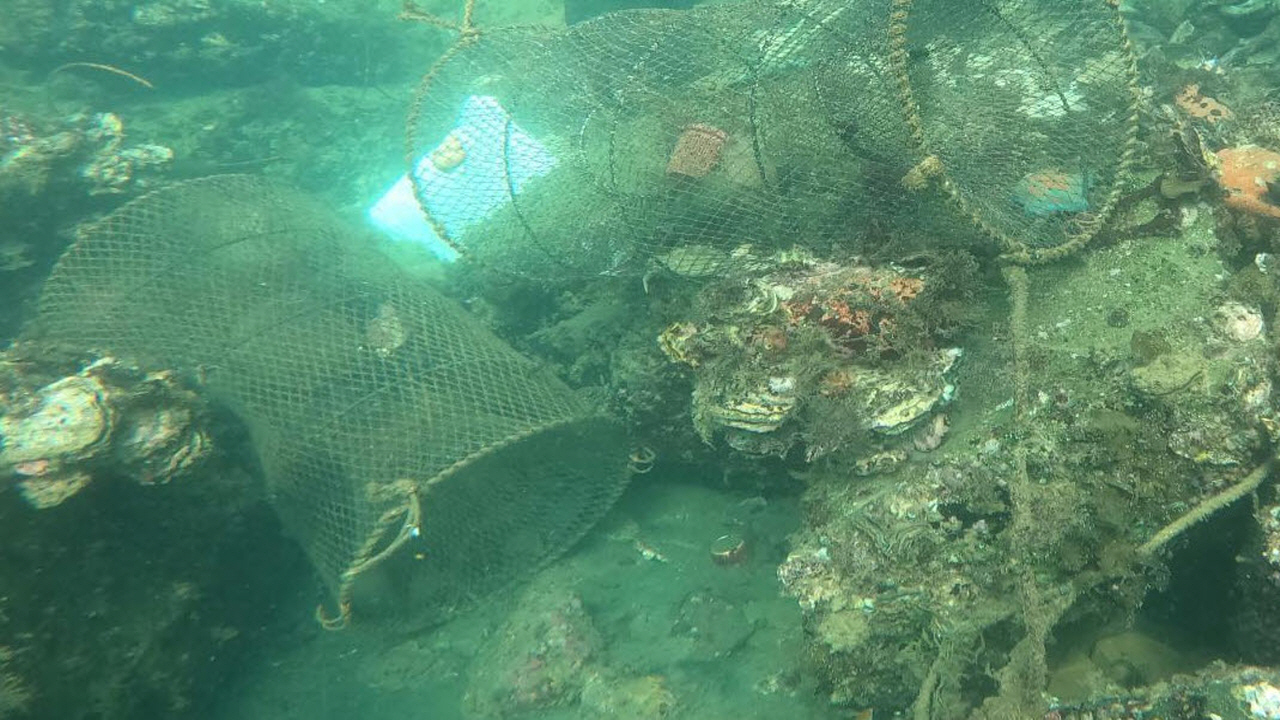bundle of ropes: (413, 0, 479, 33)
spring fish trap: (30, 170, 641, 643), (402, 2, 1141, 287)
